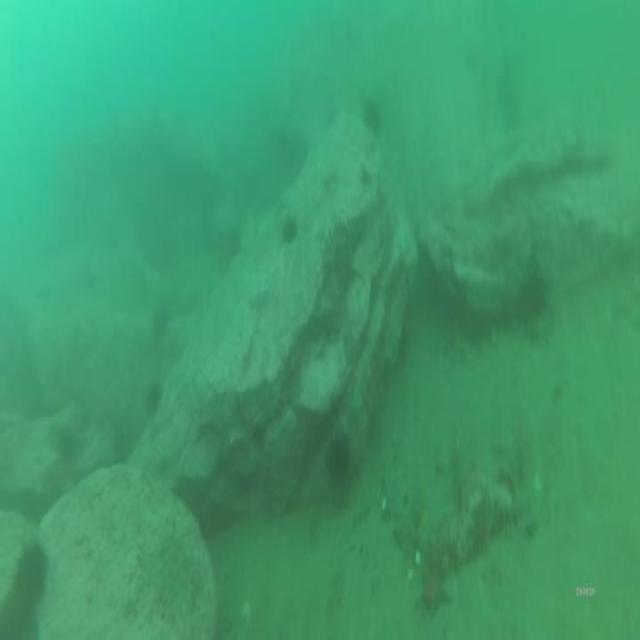echinus: (11, 548, 48, 598), (2, 600, 33, 640), (519, 275, 546, 316), (326, 438, 348, 485), (145, 381, 162, 408), (361, 98, 377, 126), (280, 216, 296, 238)
